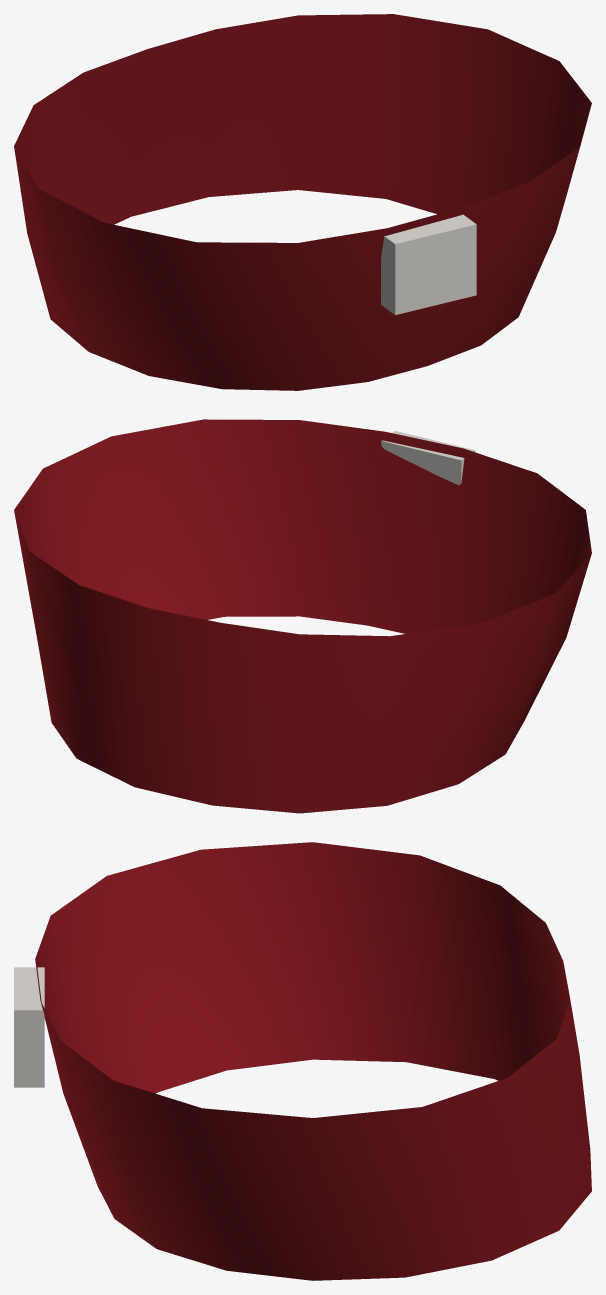
The model's file is santa_costume_belt.glb.
3 renders of one model, top to bottom at view 1: azimuth 30°, elevation 25°; view 2: azimuth 150°, elevation 25°; view 3: azimuth 270°, elevation 25°, orthographic. The views are drawn at different scales.
Parts seen in each view (by area): view 1: santa_costume_belt; view 2: santa_costume_belt; view 3: santa_costume_belt.
Boxes of the visible parts, left/top/right/bottom form: santa_costume_belt: left=14, top=14, right=591, bottom=390; santa_costume_belt: left=14, top=419, right=591, bottom=813; santa_costume_belt: left=14, top=842, right=591, bottom=1280.
Size of the model in its own units: 0.3841 by 0.1238 by 0.34.
